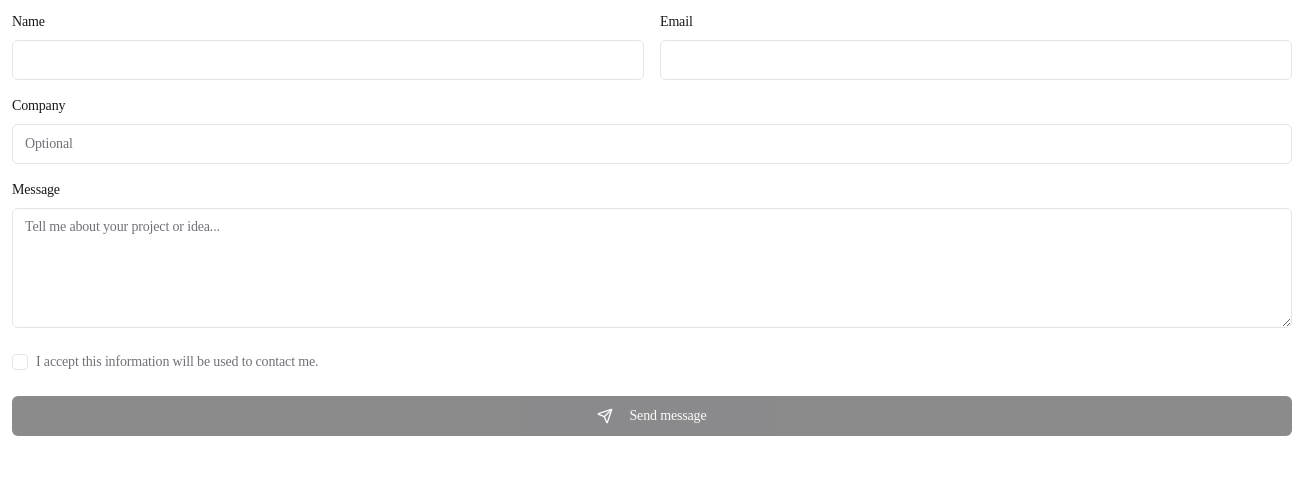
Test: ContactForm › blocks submission when client-side validation fails
Type "Test User" into the field labelled "Name" at (328, 60), box [12,40,644,80]
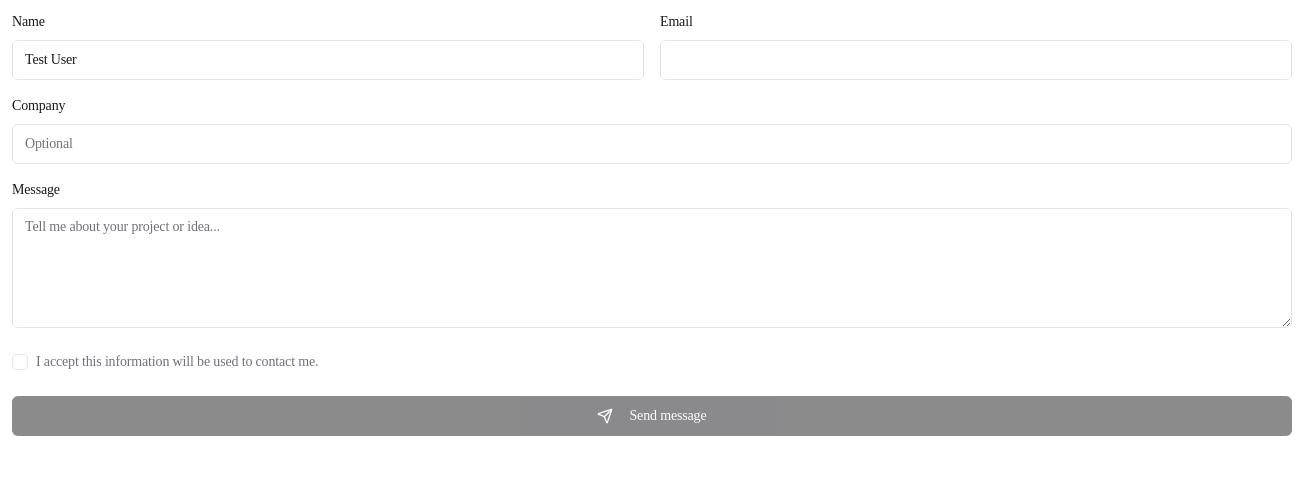
Type "test@example.com" into the field labelled "Email" at (976, 60), box [660,40,1292,80]
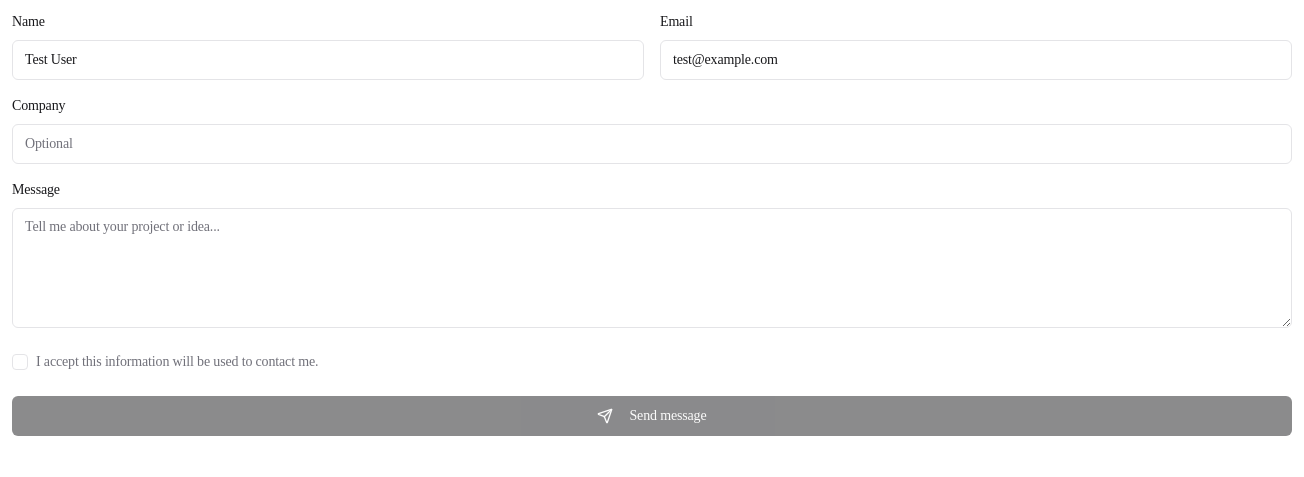
Type "Hello from the test suite!" into the text box labelled "Message" at (652, 268), box [12,208,1292,328]
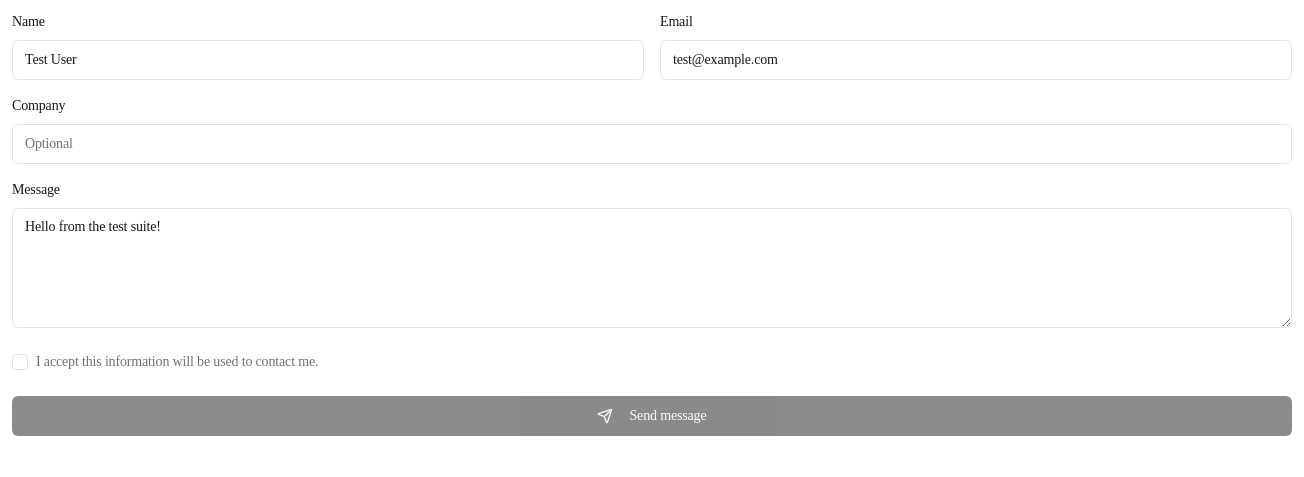
Click the checkbox at (20, 362), box [12,354,28,370]
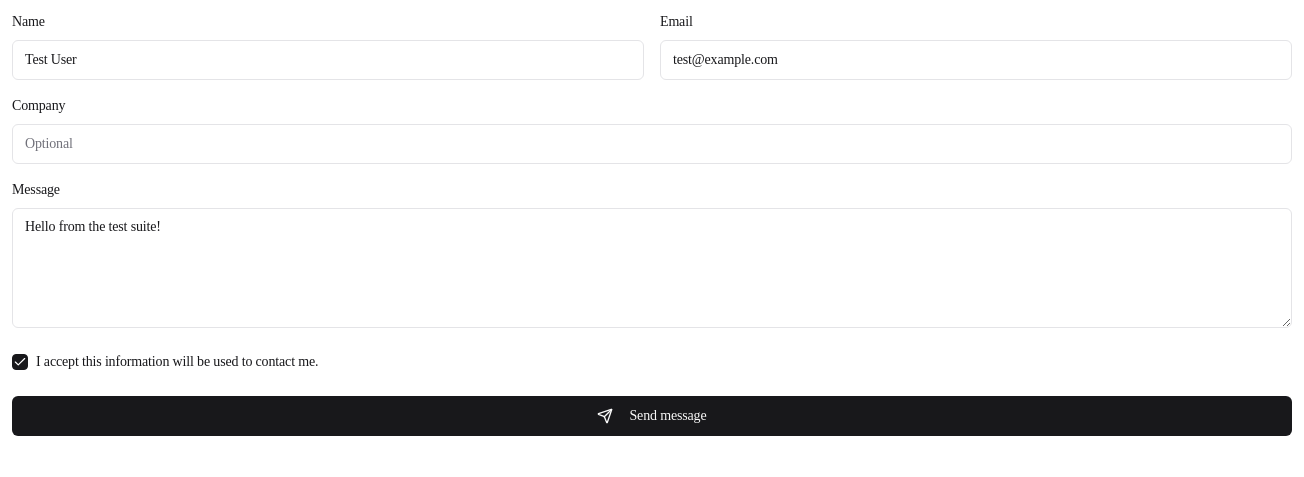
Replace the text in the text box labelled "Message" with "short" at (652, 268), box [12,208,1292,328]
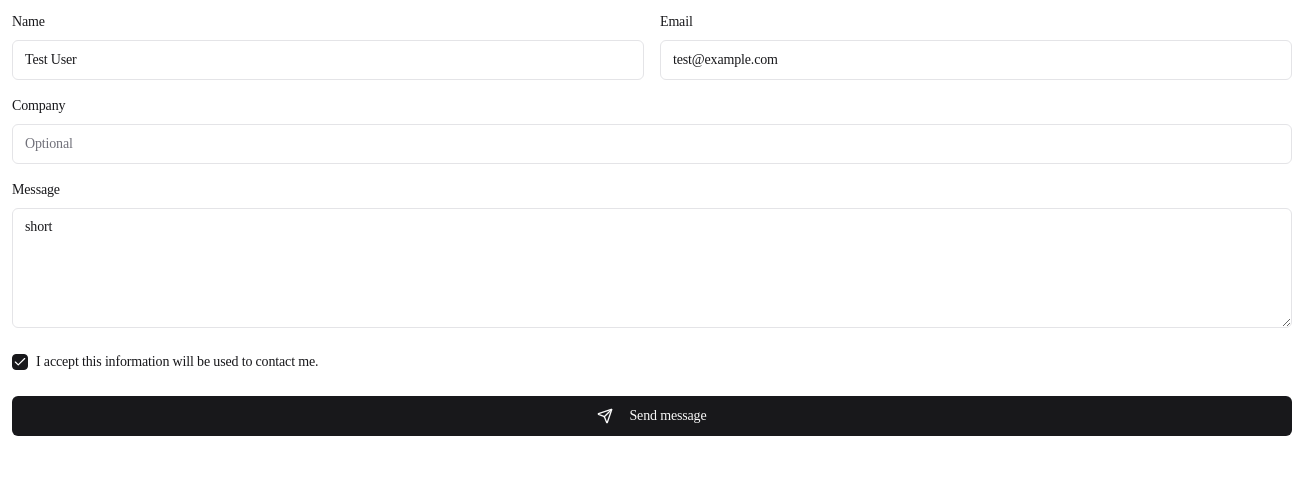
Click the button "Send message" at (652, 416), box [12,396,1292,436]
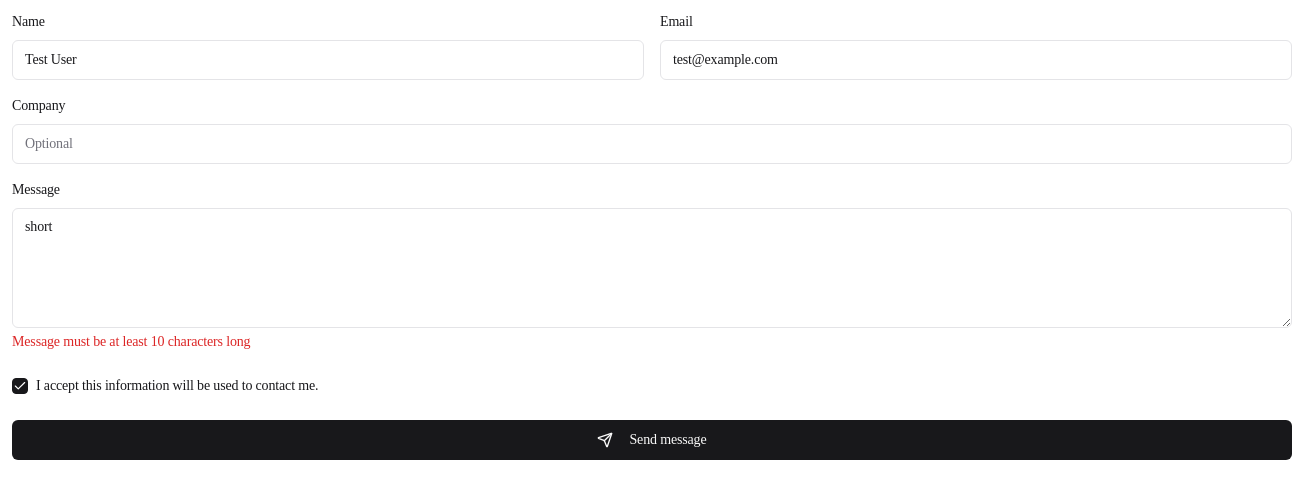
Check: the text "Message must be at least 10 characters long" is shown, box [12,334,250,349]
